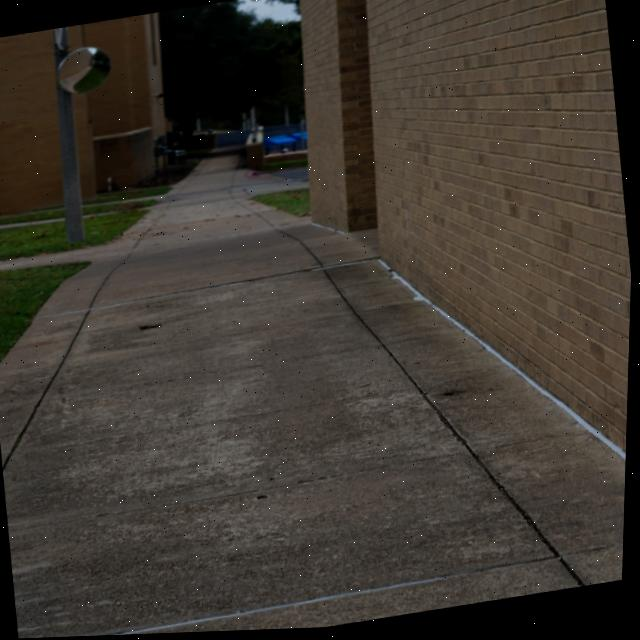Sidewalk: (0, 156, 629, 639), (85, 194, 168, 208), (0, 218, 66, 230), (84, 212, 114, 219)
